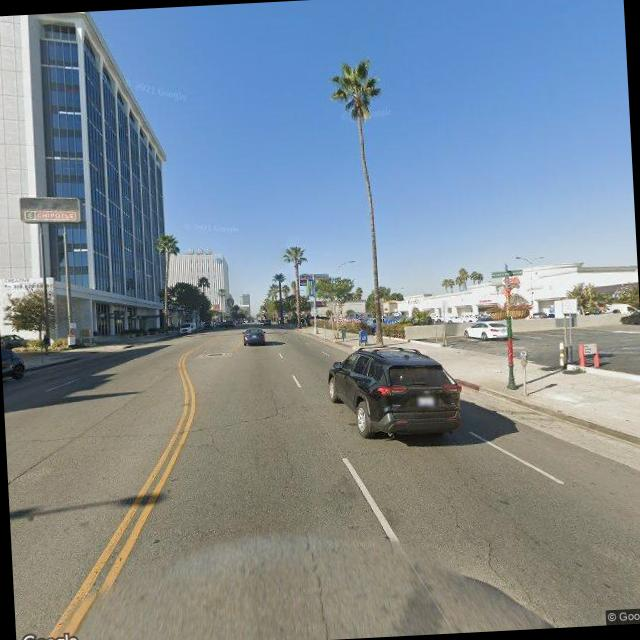pothole: (297, 526, 340, 640), (276, 442, 298, 502)
